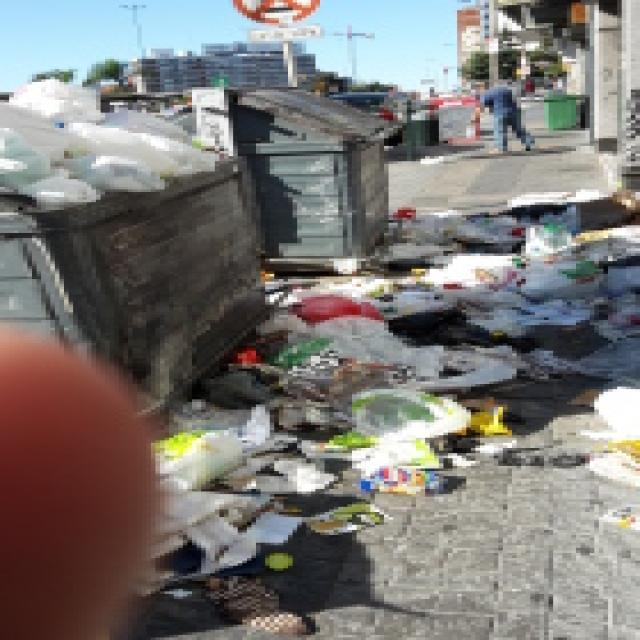garbage: (242, 279, 448, 492), (398, 210, 636, 358), (142, 404, 330, 560), (0, 76, 224, 190)
